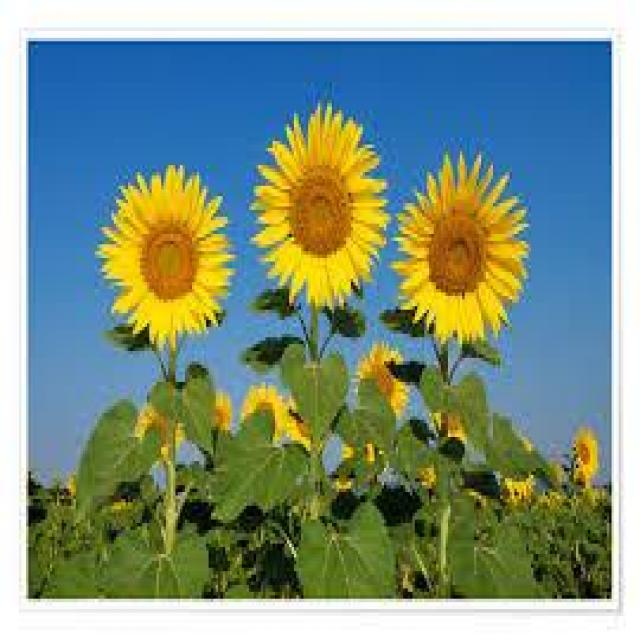organic waste: (256, 98, 379, 322), (395, 155, 532, 351), (94, 158, 228, 337)
